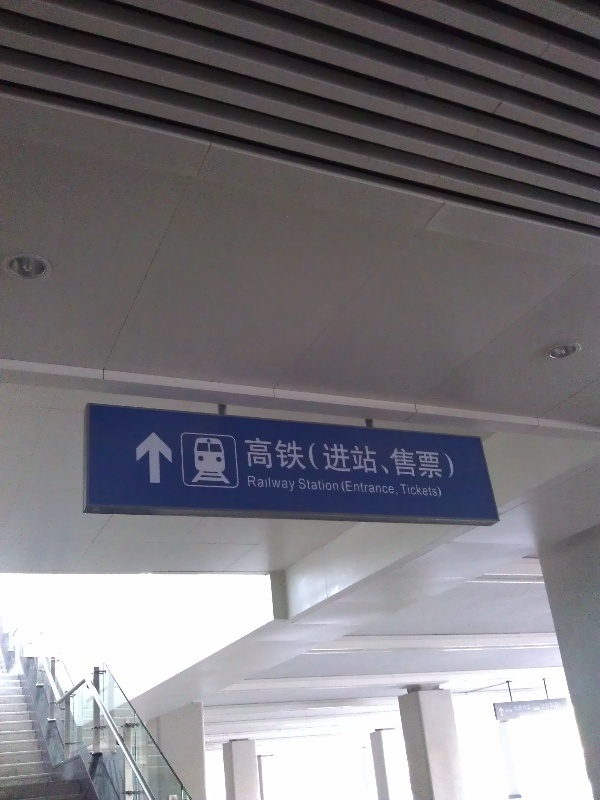text: (257, 436, 272, 480), (273, 436, 288, 480), (289, 436, 304, 480), (305, 436, 320, 480), (321, 436, 336, 480), (337, 436, 352, 480), (353, 436, 368, 480), (369, 436, 384, 480), (385, 436, 400, 480), (401, 436, 416, 480), (417, 436, 432, 480), (433, 436, 448, 480), (244, 436, 256, 480), (449, 436, 457, 480), (257, 475, 272, 492), (273, 475, 288, 492), (353, 480, 368, 497), (369, 480, 384, 497), (385, 480, 400, 497), (305, 478, 320, 493), (321, 478, 336, 493), (401, 484, 416, 498), (417, 484, 432, 498), (342, 480, 352, 497), (247, 475, 256, 492), (433, 484, 443, 498), (545, 702, 560, 710), (289, 475, 296, 492), (514, 704, 528, 712), (299, 478, 304, 493), (337, 478, 340, 493), (541, 702, 544, 710), (529, 704, 531, 712), (561, 702, 562, 710)
